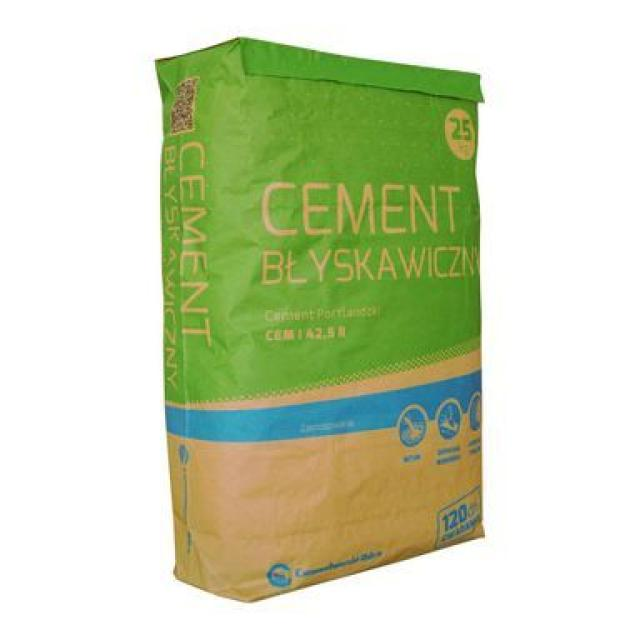KantongSemen: (152, 34, 486, 604)
